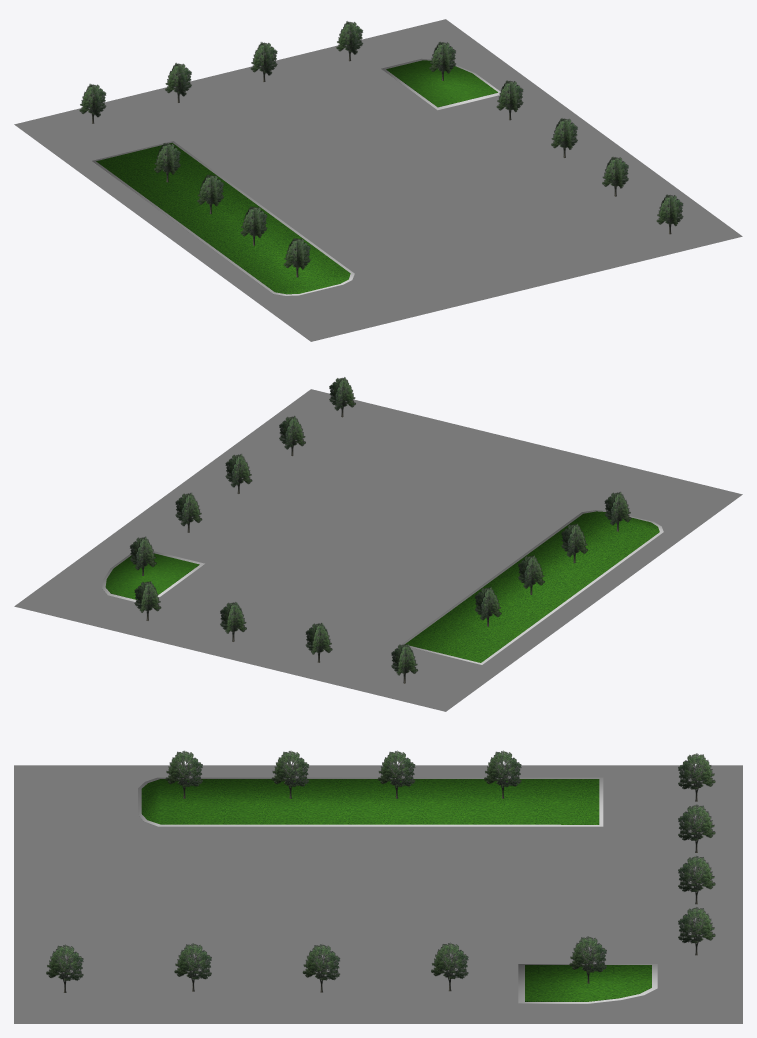
Rendered from ts_0f_mini.gltf.
The picture shows the model from 3 angles, top to bottom: view 1: azimuth 30°, elevation 25°; view 2: azimuth 150°, elevation 25°; view 3: azimuth 270°, elevation 25°; orthographic projection. The views are drawn at different scales.
Visible parts, largest first — view 1: dimian_25, dimian_24, dimian_19, dimian_16, dimian_17; view 2: dimian_25, dimian_24, dimian_19, dimian_16, dimian_17; view 3: dimian_25, dimian_24, dimian_19, dimian_16, dimian_21, dimian_18, dimian_30, dimian_8, dimian_28, dimian_14, dimian_20, dimian_15 (+6 smaller).
Boxes of the visible parts, left/top/right/bottom form: dimian_25: left=14, top=19, right=742, bottom=341; dimian_24: left=96, top=142, right=350, bottom=294; dimian_19: left=386, top=60, right=497, bottom=107; dimian_16: left=92, top=141, right=354, bottom=295; dimian_17: left=381, top=58, right=500, bottom=110; dimian_25: left=14, top=389, right=742, bottom=711; dimian_24: left=405, top=511, right=659, bottom=662; dimian_19: left=105, top=553, right=199, bottom=599; dimian_16: left=401, top=510, right=663, bottom=664; dimian_17: left=102, top=551, right=204, bottom=602; dimian_25: left=14, top=765, right=742, bottom=1023; dimian_24: left=141, top=779, right=599, bottom=824; dimian_19: left=525, top=965, right=651, bottom=1001; dimian_16: left=138, top=777, right=603, bottom=826; dimian_21: left=678, top=907, right=715, bottom=955; dimian_18: left=678, top=855, right=715, bottom=904; dimian_30: left=678, top=804, right=715, bottom=852; dimian_8: left=174, top=943, right=211, bottom=991; dimian_28: left=678, top=753, right=715, bottom=801; dimian_14: left=302, top=944, right=340, bottom=992; dimian_20: left=165, top=750, right=202, bottom=798; dimian_15: left=569, top=936, right=606, bottom=983.
Bounding box in the file's own units: 68.65 × 6.51 × 81.8.
Materials: 5 (3 with a texture image).
